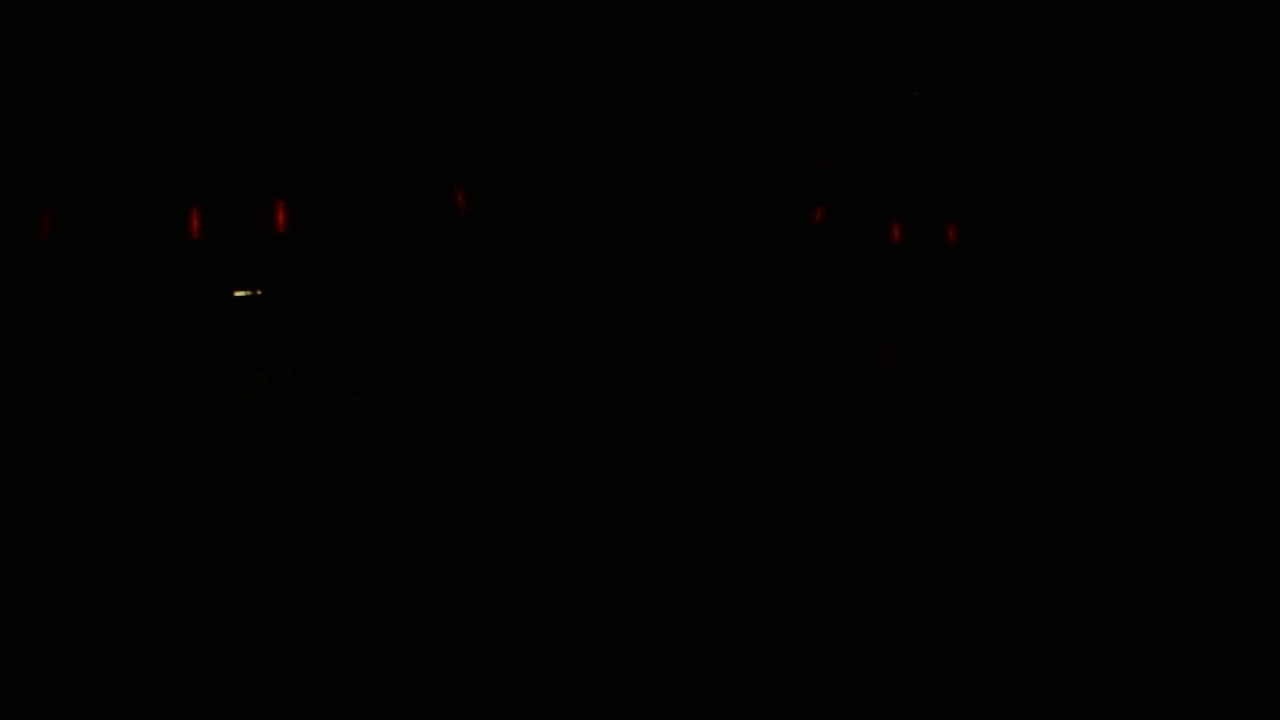pair1: (181, 192, 300, 250)
pair2: (884, 212, 965, 251)
